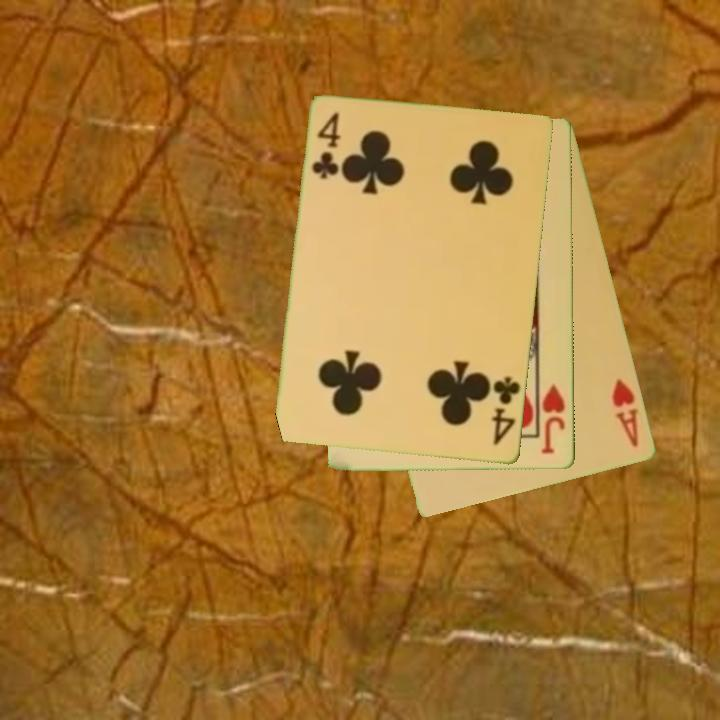4c: (488, 374, 523, 448), (309, 109, 343, 183)
Ah: (608, 376, 642, 451)
Jh: (536, 375, 568, 457)
